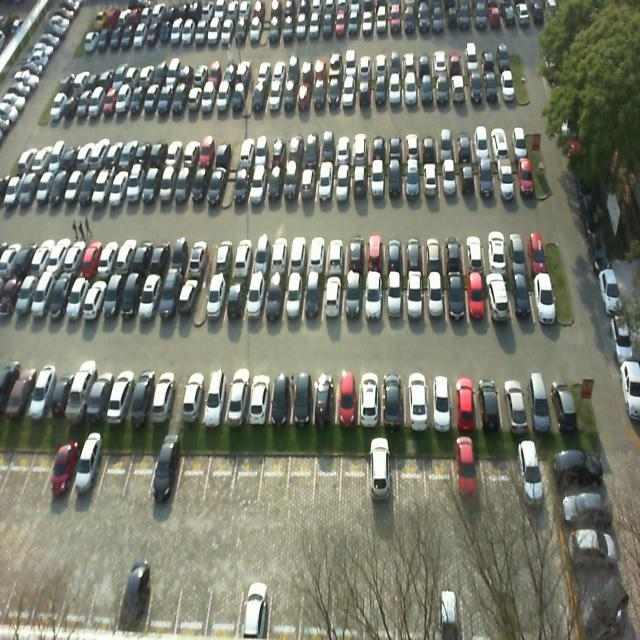space-empty: (94, 445, 132, 502), (123, 442, 158, 502), (231, 451, 264, 504), (204, 448, 238, 498), (175, 445, 208, 496), (312, 451, 342, 507), (21, 446, 55, 494), (259, 448, 290, 500), (288, 449, 314, 504)
space-occupied: (71, 446, 106, 501), (148, 444, 182, 500), (43, 445, 78, 499), (545, 370, 576, 426), (499, 373, 528, 432), (223, 370, 254, 424), (523, 371, 550, 428), (64, 367, 93, 420), (476, 372, 502, 429), (117, 271, 146, 322), (222, 272, 249, 326), (83, 371, 112, 421), (106, 371, 134, 422), (452, 374, 479, 426), (136, 267, 162, 320), (428, 375, 454, 428), (127, 370, 154, 420), (312, 372, 336, 428), (268, 373, 294, 424), (154, 274, 180, 324), (203, 370, 229, 420), (246, 372, 272, 422), (262, 270, 286, 324), (530, 270, 557, 318), (148, 374, 175, 422), (359, 371, 382, 426), (174, 272, 198, 324), (382, 371, 405, 424), (101, 270, 125, 320), (241, 275, 265, 325), (335, 373, 359, 423), (290, 372, 313, 424), (405, 374, 428, 426), (486, 273, 511, 320), (483, 227, 507, 275), (181, 373, 206, 418), (443, 226, 466, 273), (205, 273, 225, 327), (130, 236, 156, 276), (113, 238, 140, 276), (509, 276, 532, 320), (303, 276, 324, 324), (155, 165, 178, 208), (525, 229, 548, 272), (444, 277, 467, 320), (467, 275, 488, 322), (148, 237, 172, 278), (188, 164, 211, 206), (363, 276, 384, 322), (282, 276, 302, 324), (167, 238, 192, 276), (505, 227, 526, 272), (322, 277, 343, 322), (425, 229, 445, 276), (188, 239, 212, 278), (139, 165, 162, 205), (511, 156, 534, 196), (287, 234, 310, 274), (404, 226, 424, 272), (404, 274, 424, 320), (426, 276, 446, 322), (172, 165, 193, 208), (382, 231, 404, 272), (229, 238, 252, 277), (204, 166, 226, 206), (464, 228, 484, 272), (231, 164, 252, 205), (213, 239, 236, 276), (384, 276, 402, 322), (307, 234, 328, 273), (345, 231, 364, 274), (268, 236, 290, 272), (251, 235, 272, 272), (345, 275, 362, 320), (324, 235, 344, 273), (364, 235, 383, 273), (458, 162, 478, 198), (478, 158, 496, 198), (299, 166, 317, 205), (494, 160, 514, 195), (267, 166, 284, 207), (283, 164, 300, 205), (250, 166, 268, 204), (368, 162, 386, 200), (422, 163, 440, 198), (333, 165, 350, 202), (388, 162, 404, 200), (403, 163, 420, 198), (440, 162, 458, 195), (316, 166, 332, 200), (351, 164, 367, 198)
